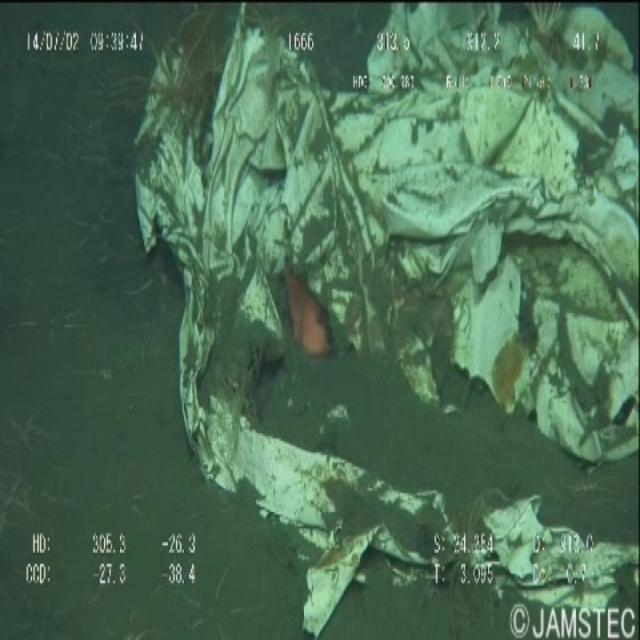Accessories: (140, 9, 640, 637)
Natual-Debris: (64, 9, 225, 258)
